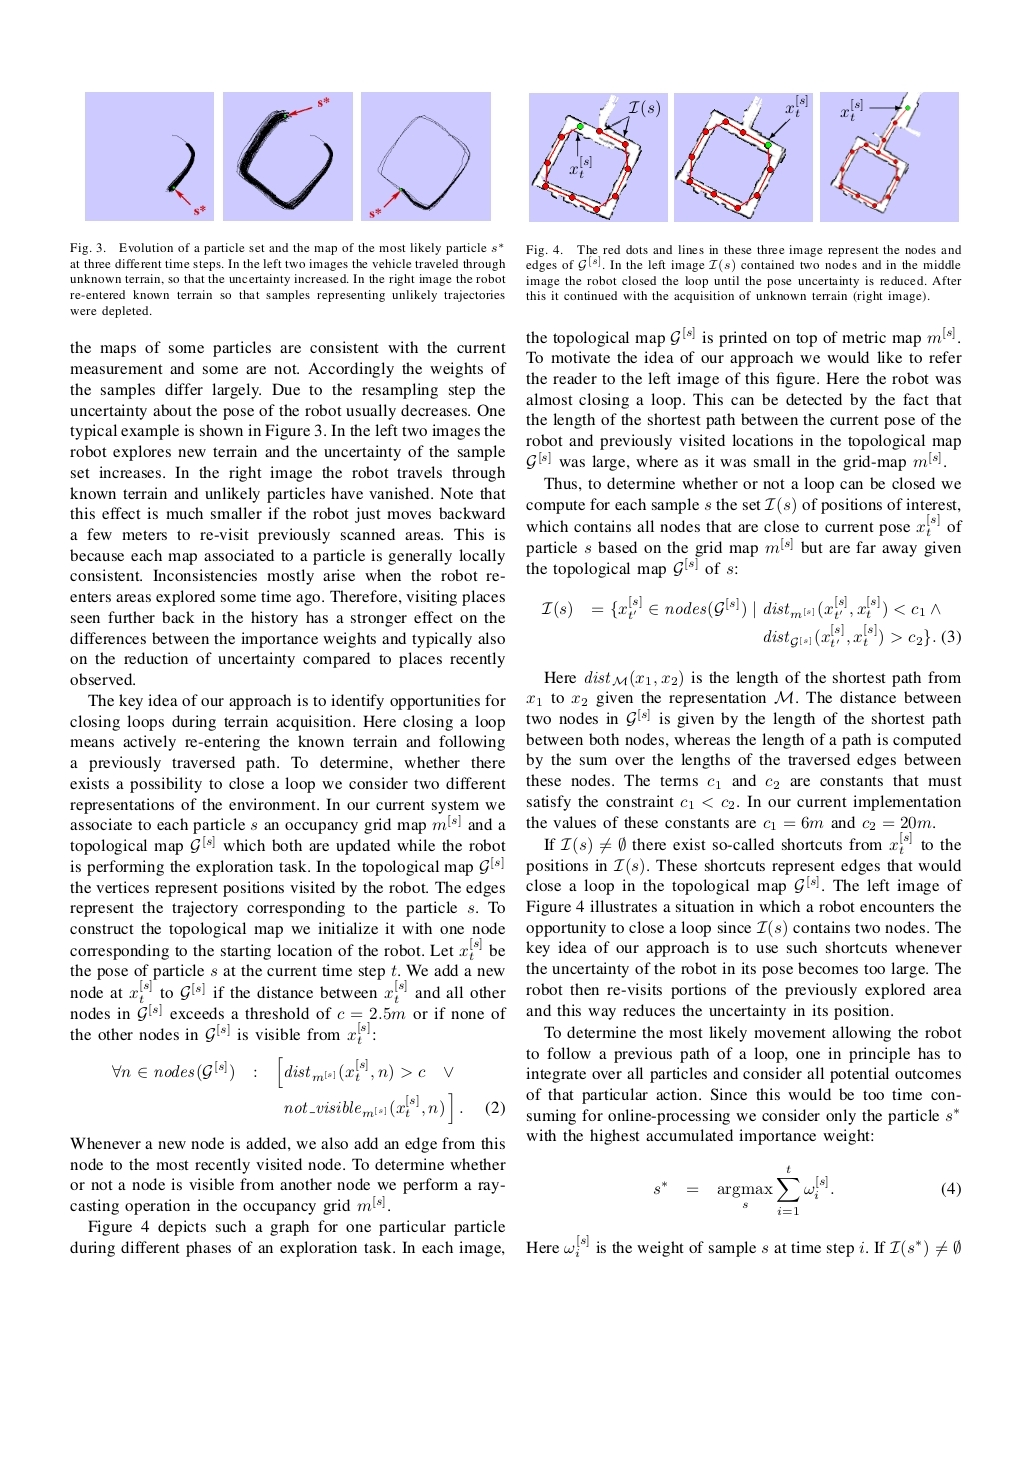figure: (820, 92, 958, 221), (673, 93, 812, 221), (529, 93, 667, 221), (361, 92, 490, 220), (85, 92, 213, 220), (223, 92, 352, 219)
formula: (654, 1165, 961, 1215), (112, 1056, 453, 1088), (541, 595, 940, 620), (284, 1092, 504, 1124), (763, 622, 961, 647)
